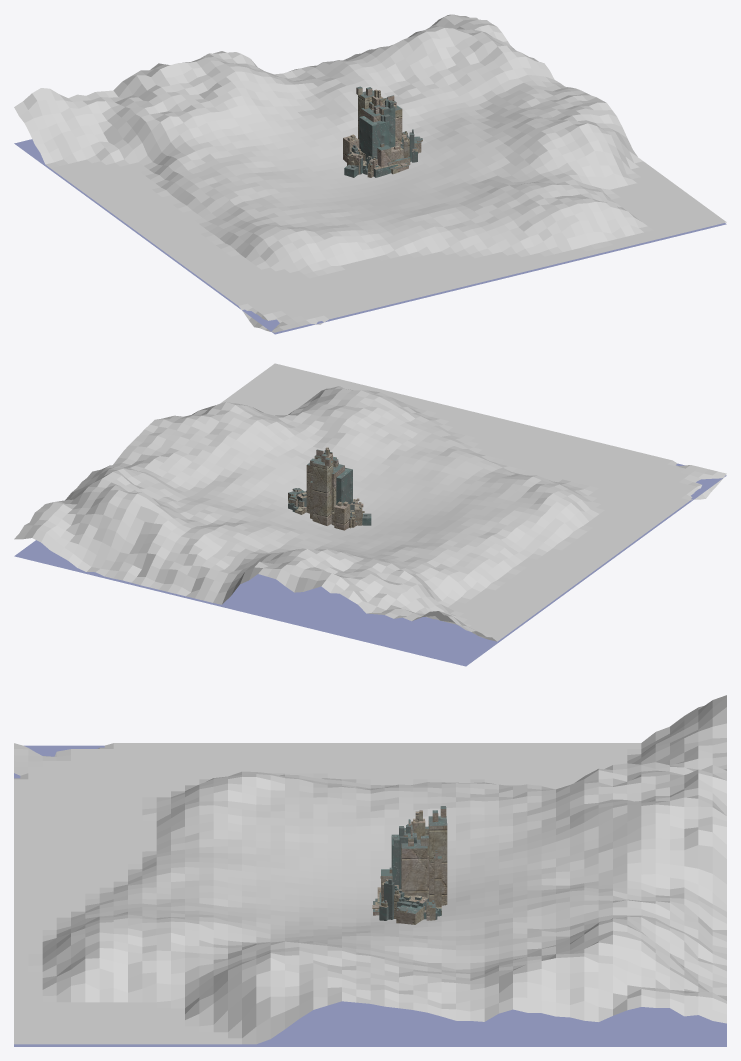
Rendered from city01.dae.
The picture shows the model from 3 angles, top to bottom: view 1: azimuth 30°, elevation 25°; view 2: azimuth 150°, elevation 25°; view 3: azimuth 270°, elevation 25°; orthographic projection. The views are drawn at different scales.
Visible parts, largest first — view 1: SCG_terrain, SCG_city, SCG_water; view 2: SCG_terrain, SCG_water, SCG_city; view 3: SCG_terrain, SCG_water, SCG_city.
Boxes of the visible parts, bbox=[...] form: SCG_terrain: bbox=[14, 14, 726, 332]; SCG_city: bbox=[343, 86, 422, 177]; SCG_water: bbox=[14, 139, 726, 334]; SCG_terrain: bbox=[14, 363, 726, 641]; SCG_water: bbox=[14, 463, 726, 666]; SCG_city: bbox=[288, 447, 371, 530]; SCG_terrain: bbox=[14, 695, 726, 1044]; SCG_water: bbox=[14, 745, 726, 1046]; SCG_city: bbox=[372, 806, 447, 924].
Bounding box in the file's own units: 5 × 5 × 0.8684.
Materials: 6 (4 with a texture image).
